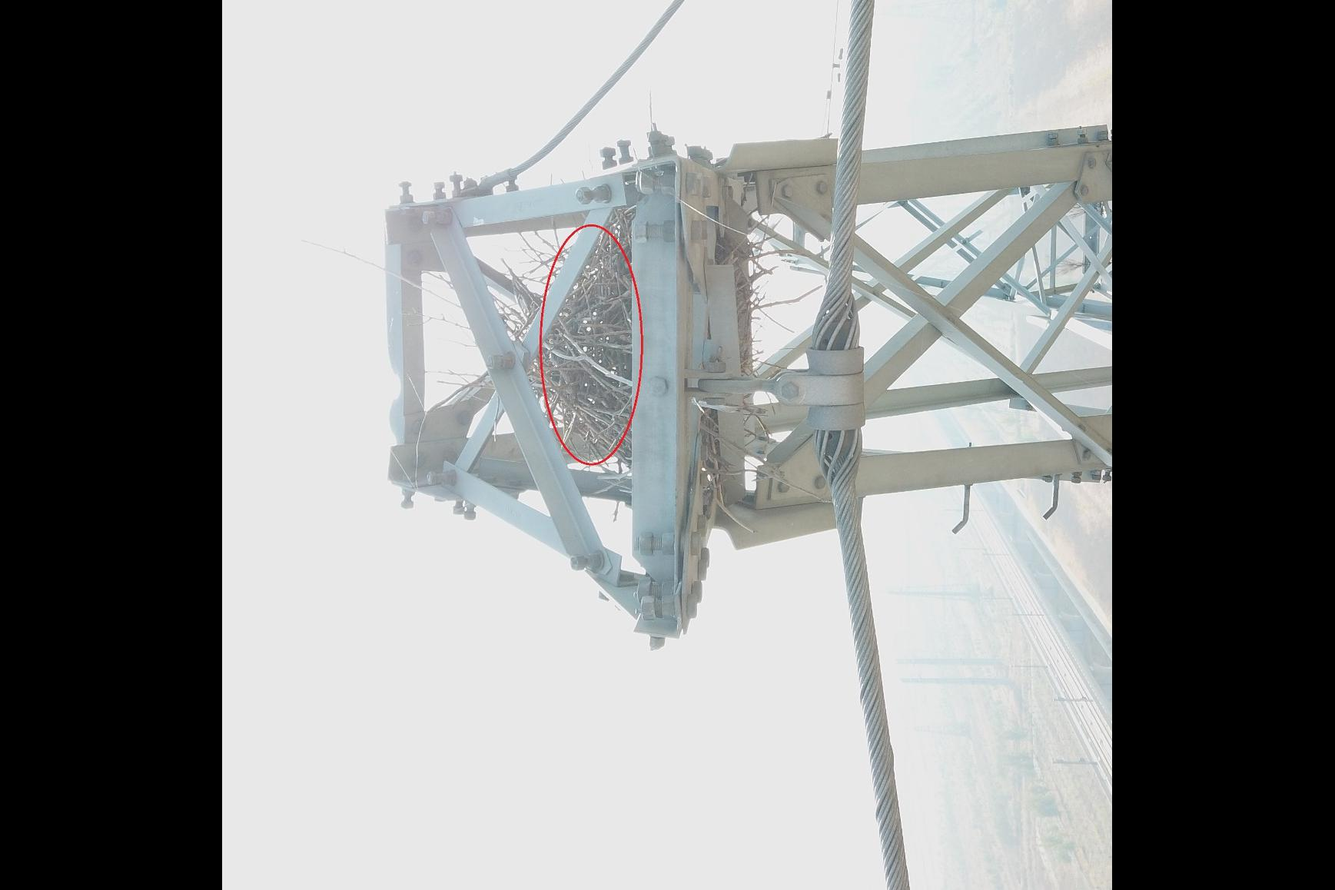nest: (493, 198, 649, 478)
